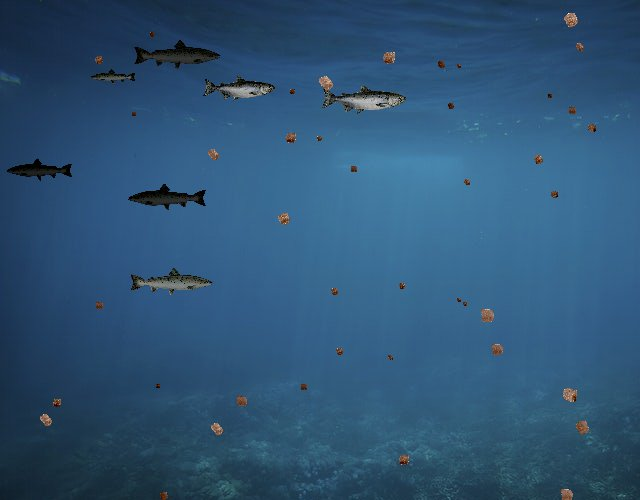Fish: (132, 39, 222, 71), (128, 266, 214, 297), (320, 84, 406, 115), (127, 183, 208, 212), (202, 76, 275, 102), (6, 157, 74, 182), (90, 68, 137, 85)
Pellet: (310, 68, 340, 98), (473, 301, 501, 329), (485, 337, 509, 361), (201, 143, 225, 167), (528, 149, 548, 169), (313, 132, 326, 145), (460, 298, 470, 308)
